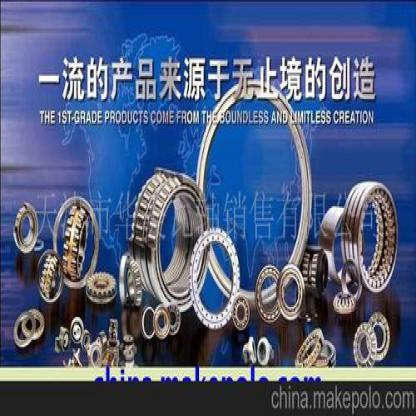FOD: (342, 178, 401, 294), (275, 262, 306, 322), (255, 262, 281, 328), (230, 292, 250, 334), (68, 315, 83, 347)
